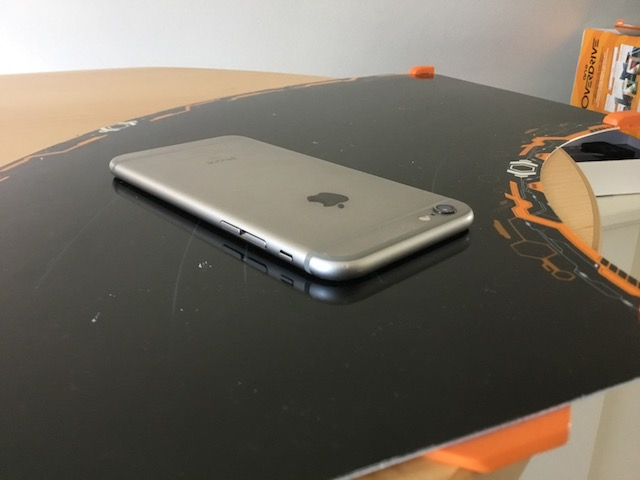phone: (106, 131, 479, 288)
